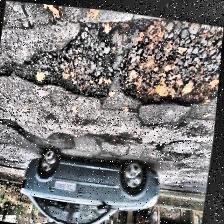pothole: (0, 0, 224, 119), (0, 112, 80, 150), (86, 126, 138, 146)
